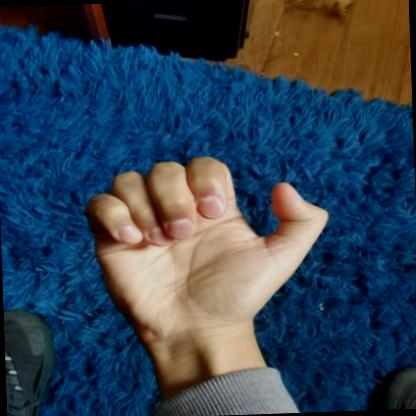E: (72, 140, 355, 356)
